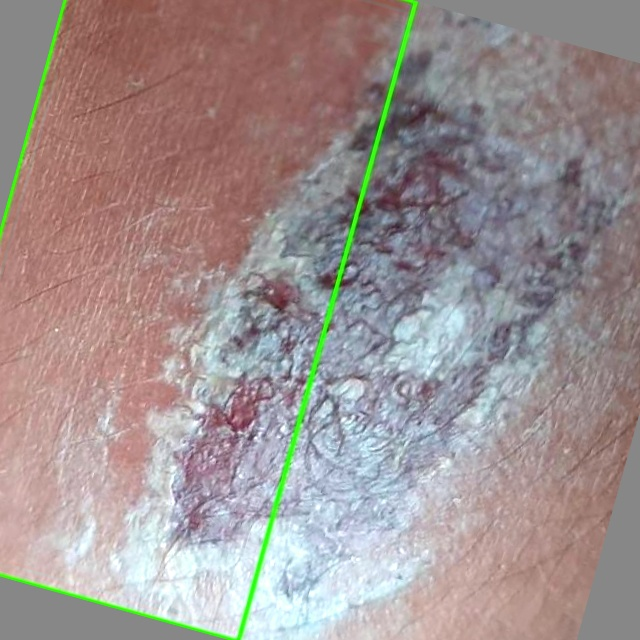Atopic Dermatitis: (0, 0, 415, 639)
